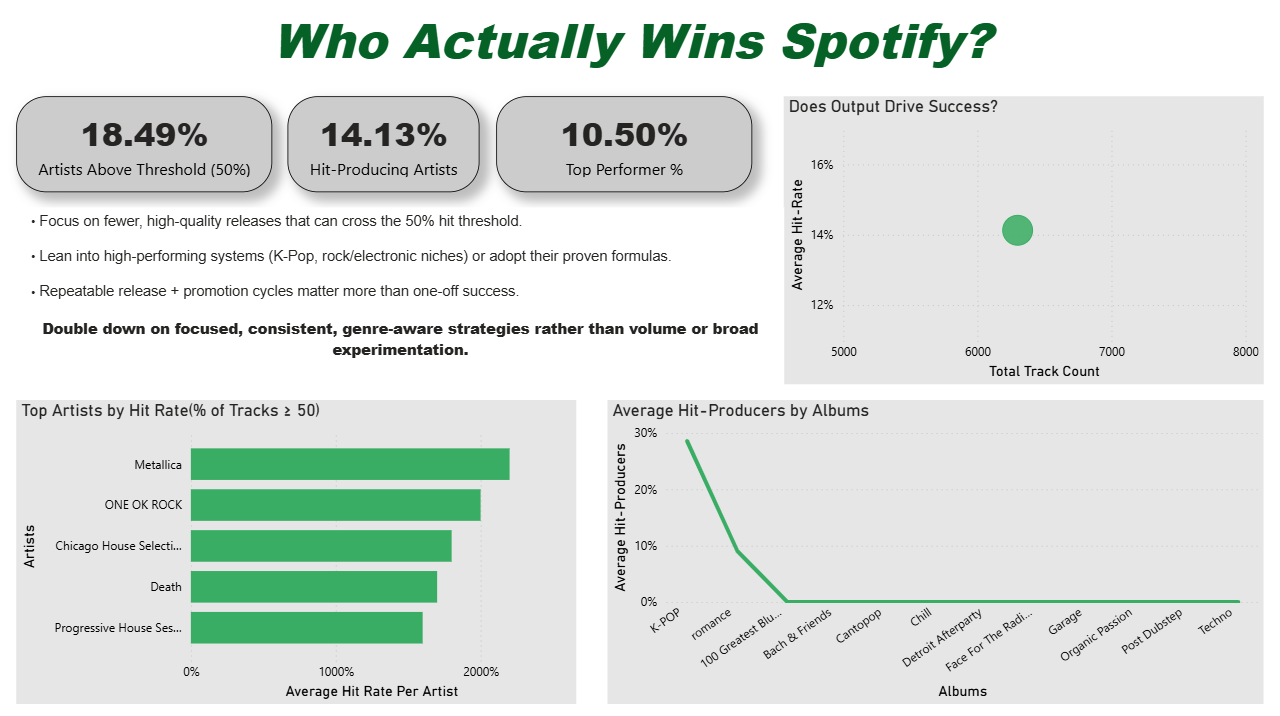

What the dashboard file says about the page in this screenshot:
{"tool":"powerbi","page":{"name":"Artists","canvas":[1280,720],"ordinal":4},"visuals":[{"type":"textbox","box":[16,0,1232,80],"z":0},{"type":"card","fields":{"Values":["Sum(spotify_project.% High Popularity TABLE)"]},"box":[16,96,256,96],"z":1000},{"type":"card","fields":{"Values":["Avg(spotify_project.Hit-Producing Artist Flag)"]},"box":[288,96,192,96],"z":2000},{"type":"card","fields":{"Values":["spotify_project.Top Performer %"]},"box":[496,96,256,96],"z":3000},{"type":"barChart","title":"Top Artists by Hit Rate(% of Tracks ≥ 50)","fields":{"Category":["spotify_project.artists"],"Y":["Sum(spotify_project.Avg Hit Rate per Artist)"]},"box":[16,400,560,304],"z":4000},{"type":"scatterChart","title":"Does Output Drive Success?","fields":{"X":["spotify_project.Track Count"],"Y":["spotify_project.Hit-Producing Artist Flag"],"Size":["Avg(spotify_project.popularity)"]},"box":[784,96,480,288],"z":5000},{"type":"lineChart","fields":{"Y":["Avg(spotify_project.Hit-Producing Artist Flag)"],"Category":["spotify_project.album"]},"box":[608,400,656,304],"z":6000},{"type":"textbox","box":[16,208,768,192],"z":7000}]}

Visuals, with their boxes in screenshot pixels (x1, y1, x2, y2), scaled from the page's 1280x720 canvas onto the 1280x716 screenshot:
textbox: bbox(16, 0, 1248, 80)
card - Sum(spotify_project.% High Popularity TABLE): bbox(16, 95, 272, 191)
card - Avg(spotify_project.Hit-Producing Artist Flag): bbox(288, 95, 480, 191)
card - spotify_project.Top Performer %: bbox(496, 95, 752, 191)
"Top Artists by Hit Rate(% of Tracks ≥ 50)" barChart: bbox(16, 398, 576, 700)
"Does Output Drive Success?" scatterChart: bbox(784, 95, 1264, 382)
lineChart - Avg(spotify_project.Hit-Producing Artist Flag) x spotify_project.album: bbox(608, 398, 1264, 700)
textbox: bbox(16, 207, 784, 398)
